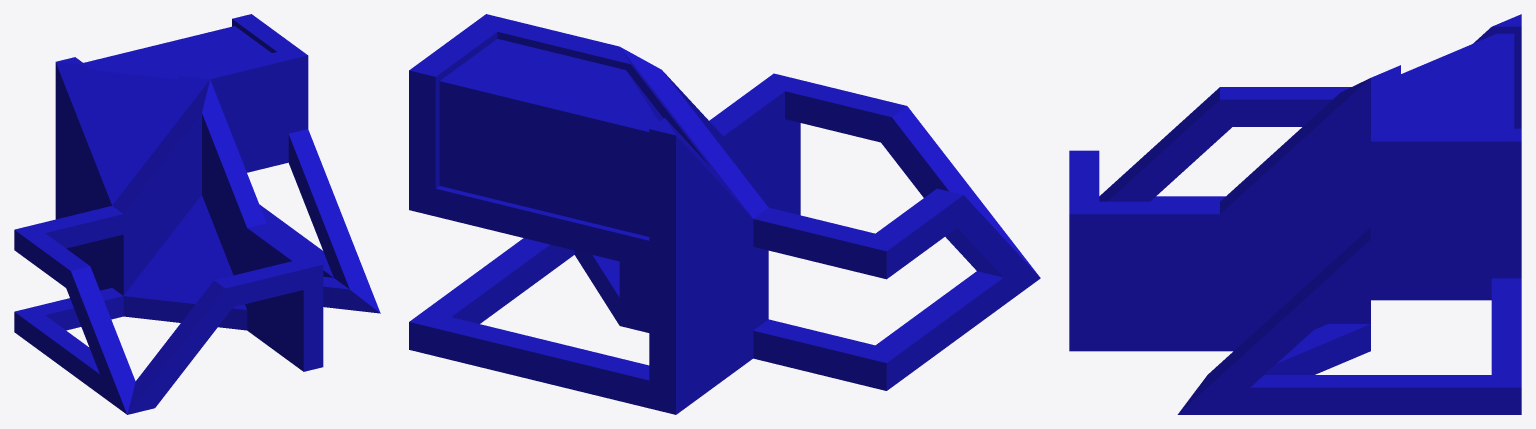
Rendered from DISCONTINUIDAD_MATE.obj.
3 views of the same model, side by side, from view 1: azimuth 30°, elevation 25°; view 2: azimuth 150°, elevation 25°; view 3: azimuth 270°, elevation 25° (orthographic). The views are drawn at different scales.
Visible parts, largest first — view 1: DISCONTINUIDAD_FINAL; view 2: DISCONTINUIDAD_FINAL; view 3: DISCONTINUIDAD_FINAL.
Boxes of the visible parts, x1=… form: DISCONTINUIDAD_FINAL: x1=14, y1=14, x2=380, y2=414; DISCONTINUIDAD_FINAL: x1=409, y1=14, x2=1040, y2=414; DISCONTINUIDAD_FINAL: x1=1069, y1=14, x2=1521, y2=414.
Bounding box in the file's own units: 15 × 10 × 15.
